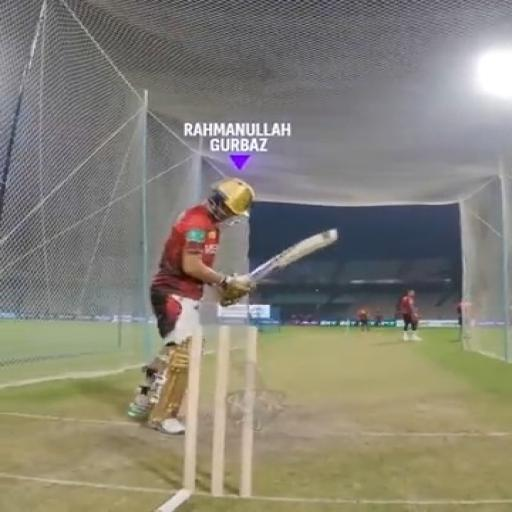Cricket bat: (250, 229, 336, 281)
